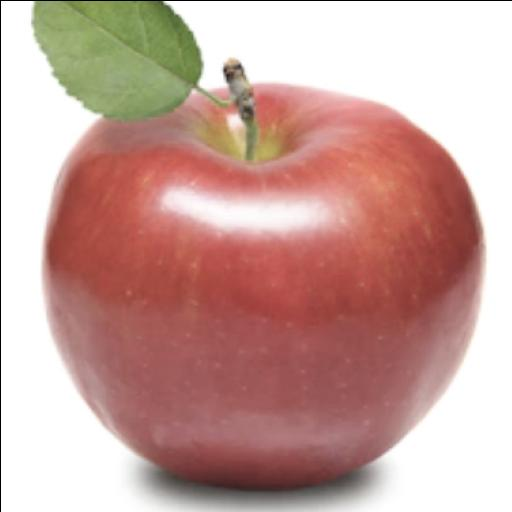apple: (43, 86, 483, 488)
